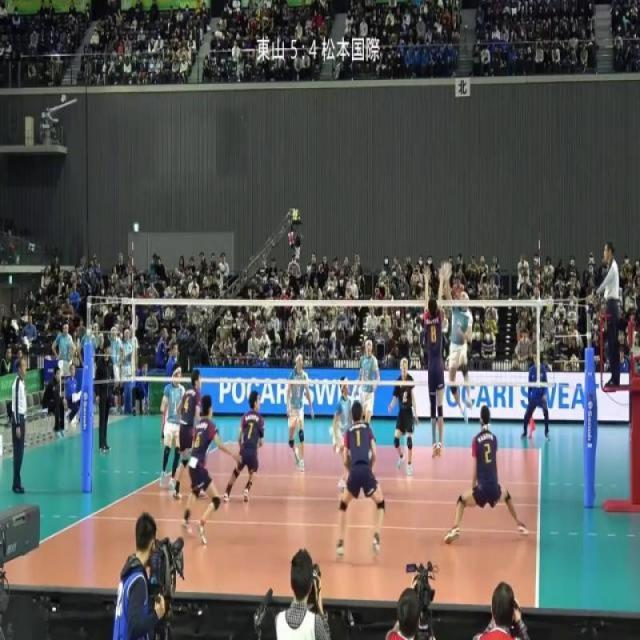volleyball: (438, 261, 452, 283)
